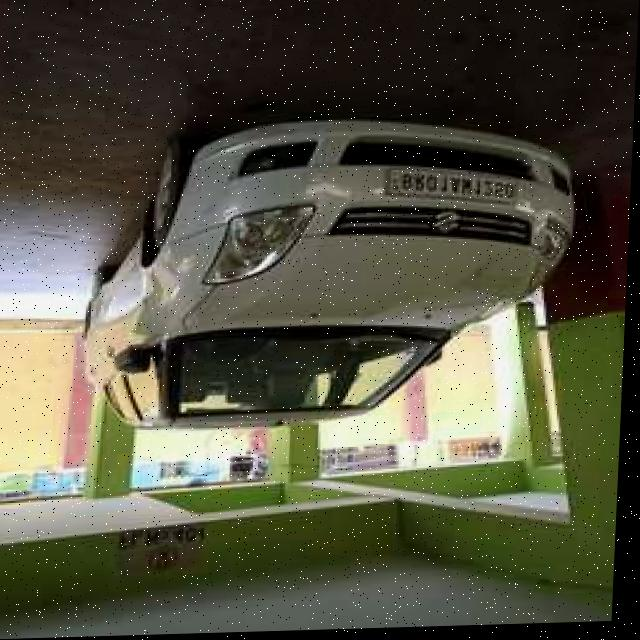plate: (381, 171, 527, 210)
